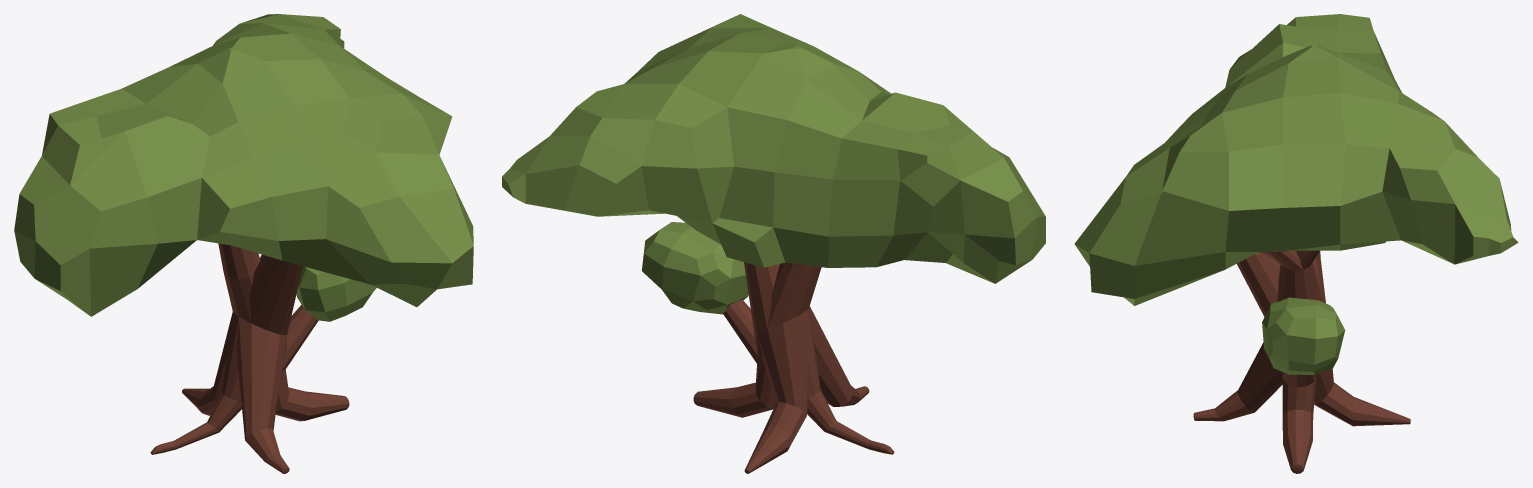
Rendered from Tree.glb.
3 views of the same model, side by side, from view 1: azimuth 30°, elevation 25°; view 2: azimuth 150°, elevation 25°; view 3: azimuth 270°, elevation 25° (orthographic). The views are drawn at different scales.
Visible parts, largest first — view 1: Tree; view 2: Tree; view 3: Tree.
Part boxes in pixels (<box>): Tree: <box>14,14,473,473</box>; Tree: <box>502,14,1045,473</box>; Tree: <box>1074,14,1518,473</box>.
Size of the model in its own units: 60.81 by 54.08 by 57.6.
